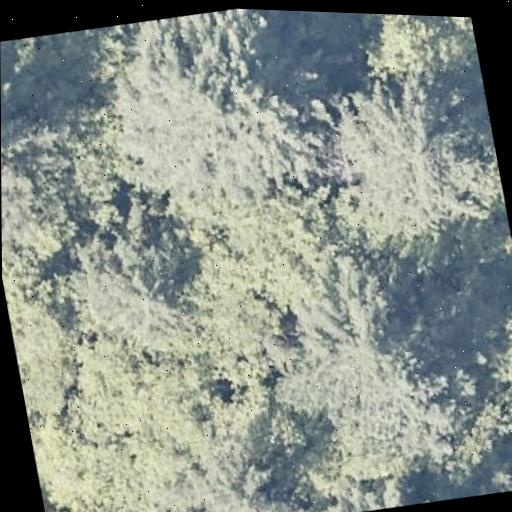tree-top: (82, 3, 337, 225), (279, 258, 482, 466), (317, 55, 509, 254), (0, 33, 85, 278), (62, 221, 212, 359), (5, 279, 89, 421), (163, 433, 293, 512), (350, 13, 480, 87), (316, 457, 472, 512), (480, 319, 512, 440)
